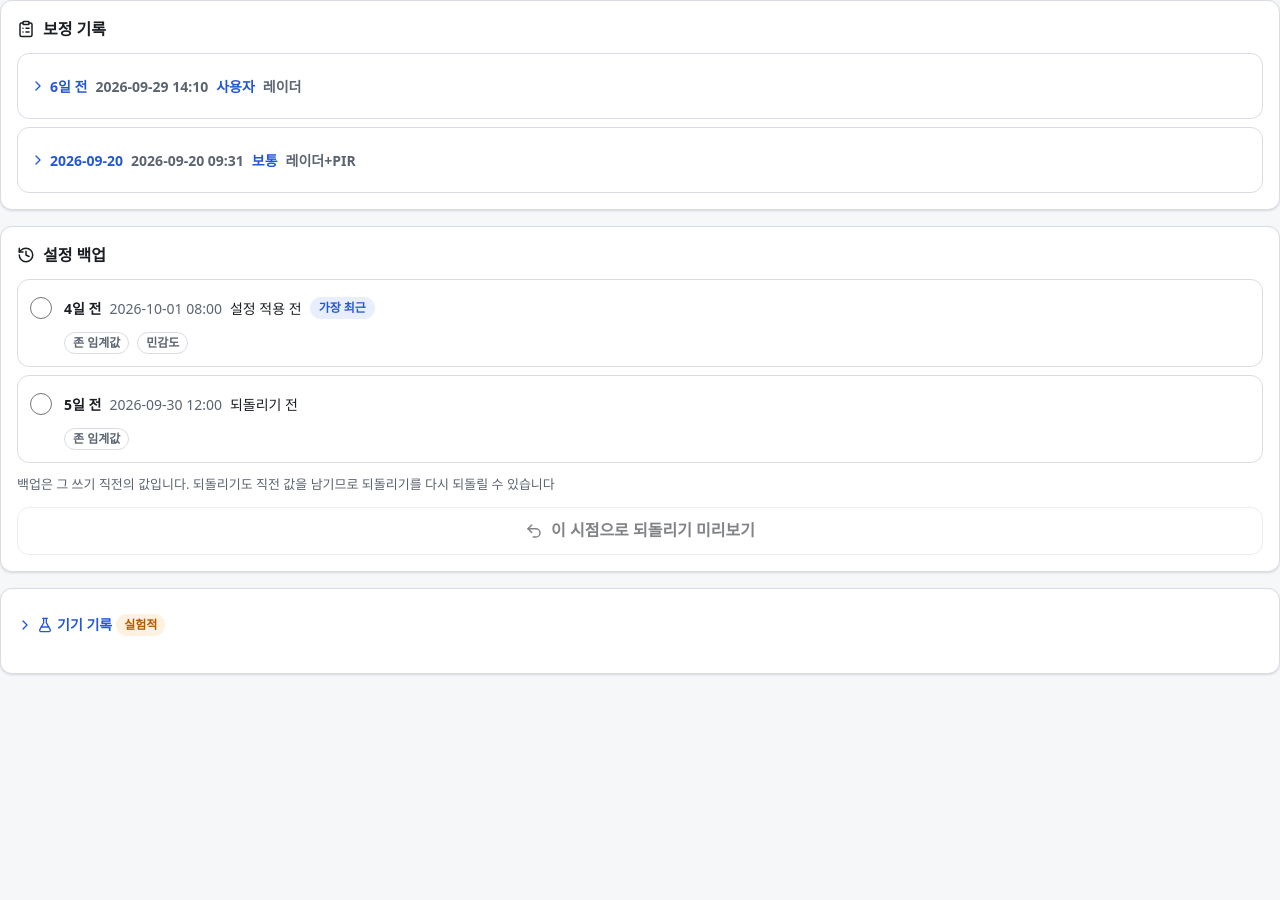
Test: HistoryTab › calibration records, backups, and the experimental device records
Expected: the text "사용자" is shown, [216,76,255,96]
Expected: the text "보통" is shown, [252,150,278,170]
Click the heading "기기 기록 실험적". click: (91, 624)
box: [17,614,165,636]
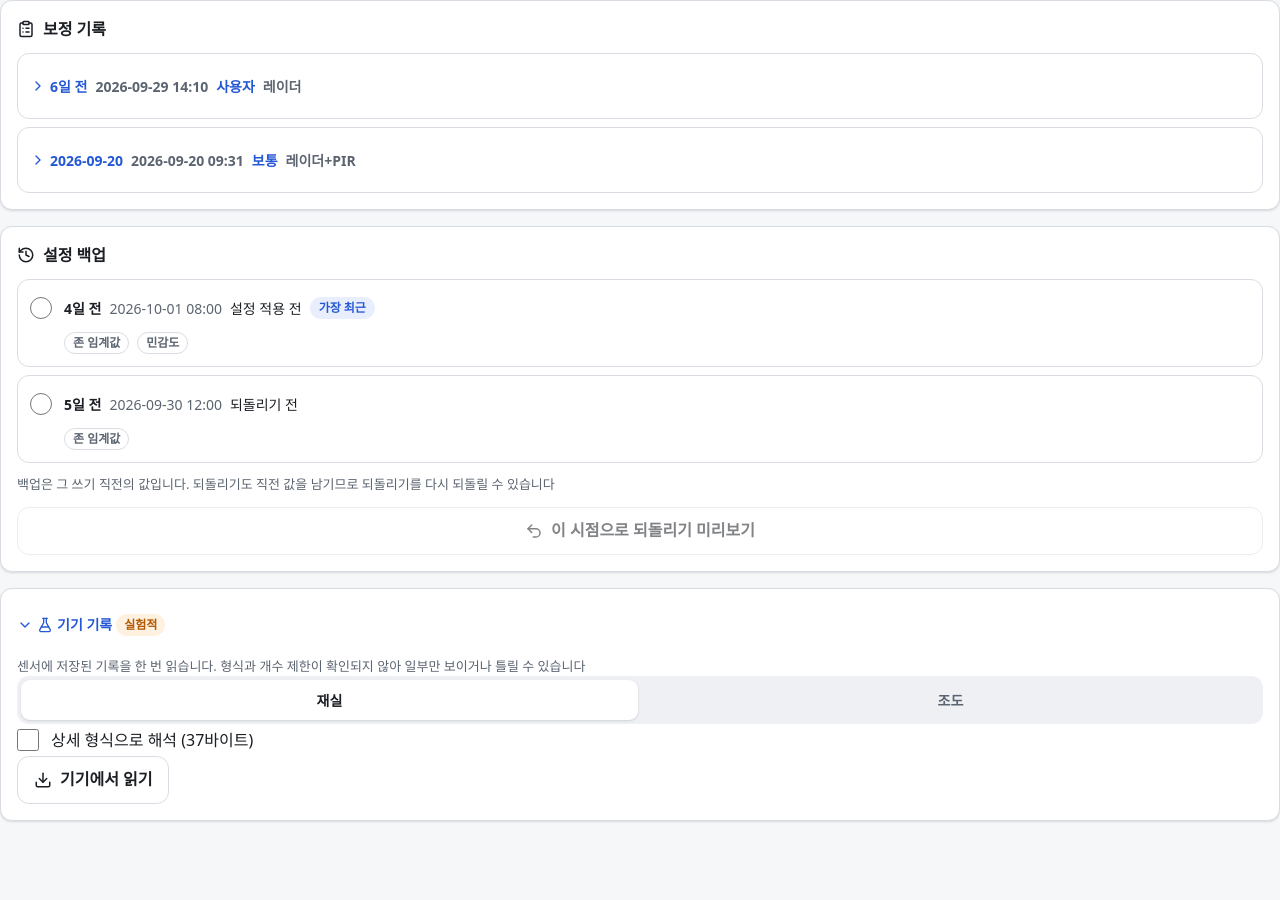
Click the button "기기에서 읽기". click: (93, 780)
box: [17,756,170,804]
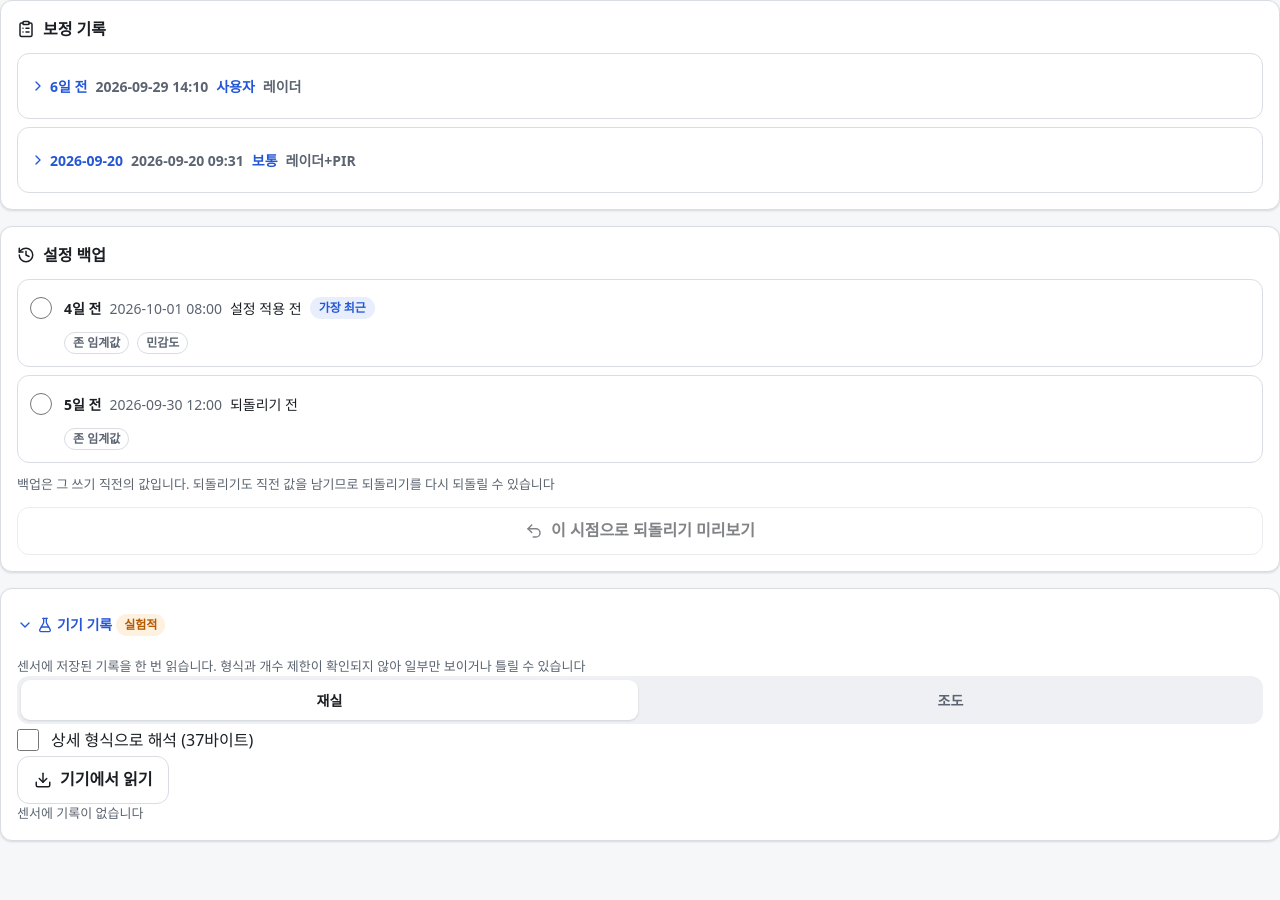
Expected: the text "센서에 기록이 없습니다" is shown, [17,804,143,822]
